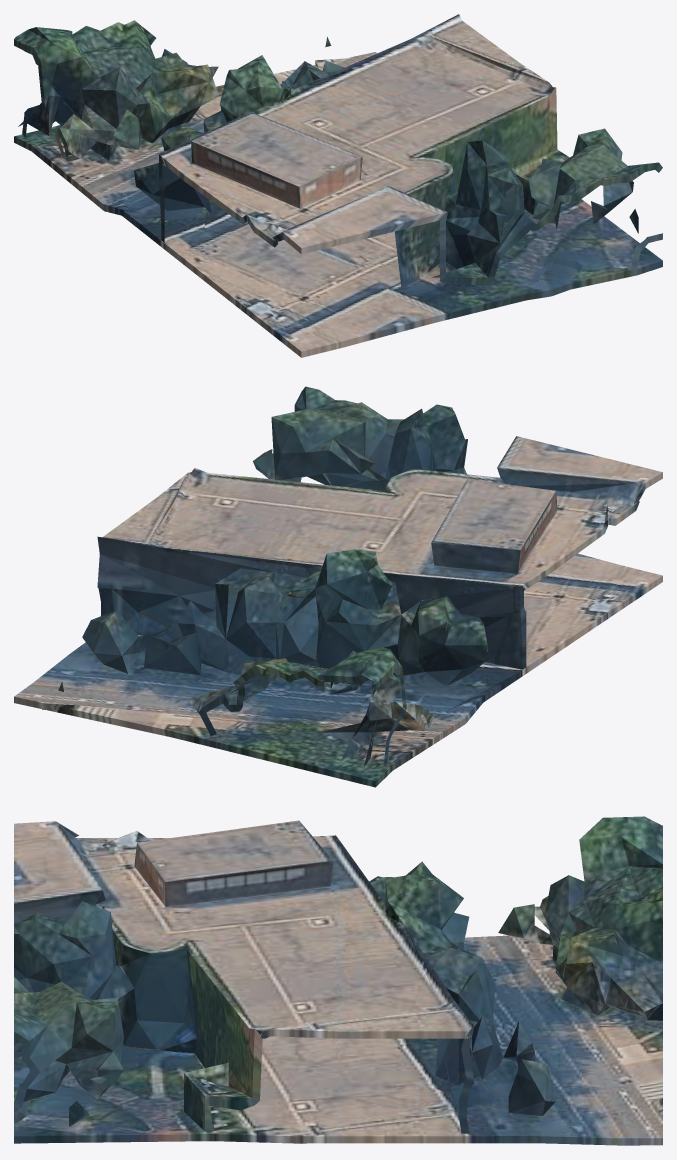
Rendered from chunk_0_-8.glb.
The picture shows the model from 3 angles, top to bottom: view 1: azimuth 30°, elevation 25°; view 2: azimuth 150°, elevation 25°; view 3: azimuth 270°, elevation 25°; orthographic projection. The views are drawn at different scales.
Visible parts, largest first — view 1: hero-chunk; view 2: hero-chunk; view 3: hero-chunk.
Part boxes in pixels (x1,y1,x2,y2): hero-chunk: [14, 14, 662, 357]; hero-chunk: [14, 386, 662, 787]; hero-chunk: [14, 816, 662, 1145].
Size of the model in its own units: 55.42 by 21.09 by 76.32.
Materials: 2 (2 with a texture image).
